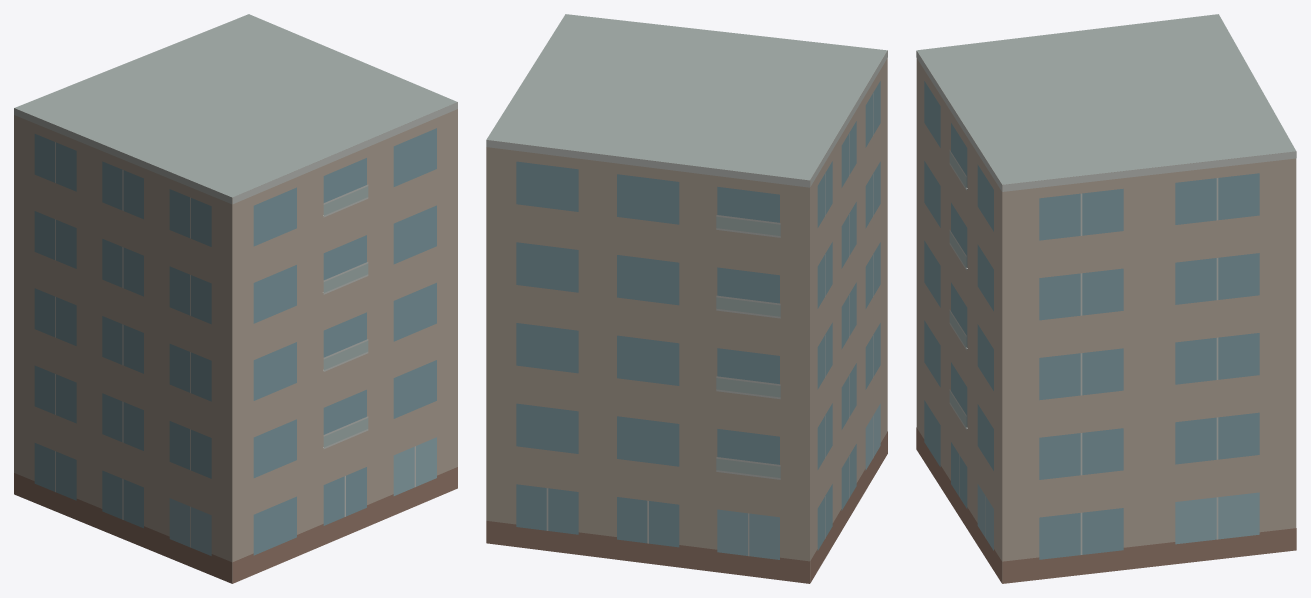
Rendered from survey-upis-32596926.glb.
3 views of the same model, side by side, from view 1: azimuth 30°, elevation 25°; view 2: azimuth 150°, elevation 25°; view 3: azimuth 270°, elevation 25° (orthographic). The views are drawn at different scales.
Visible parts, largest first — view 1: survey-upis-32596926.tmp; view 2: survey-upis-32596926.tmp; view 3: survey-upis-32596926.tmp.
Part boxes in pixels (bbox=[...]): survey-upis-32596926.tmp: bbox=[14, 14, 457, 583]; survey-upis-32596926.tmp: bbox=[486, 14, 887, 583]; survey-upis-32596926.tmp: bbox=[916, 14, 1296, 583].
Bounding box in the file's own units: 12.52 × 13.63 × 11.78.
